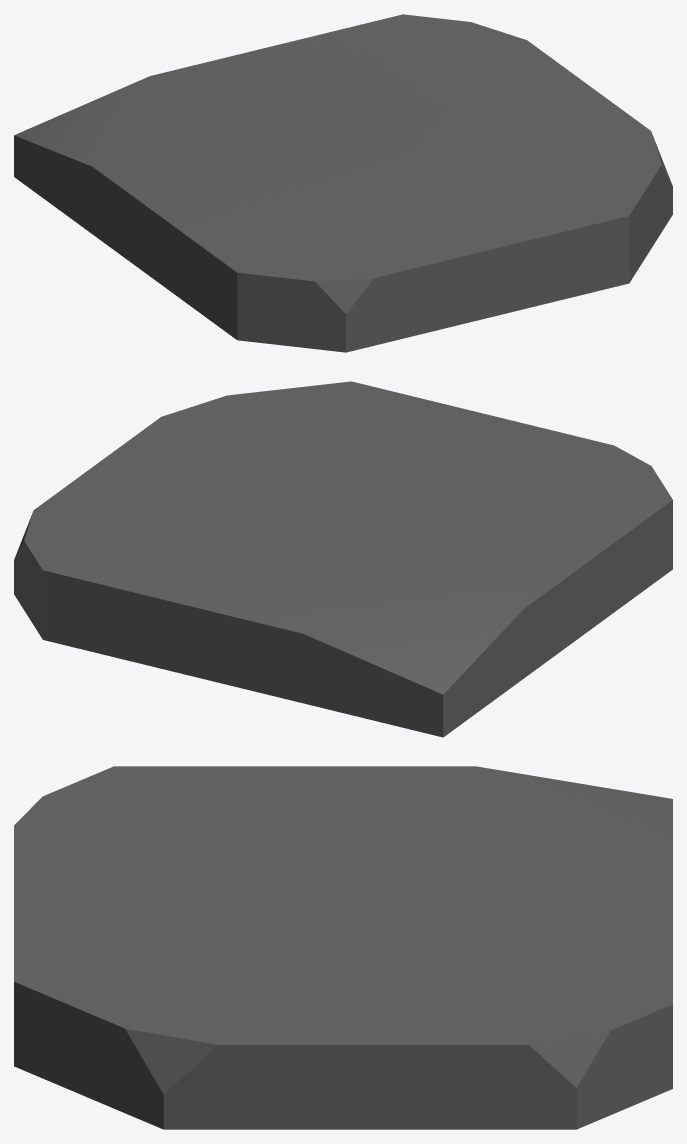
Rendered from Tile_02.fbx.
The picture shows the model from 3 angles, top to bottom: view 1: azimuth 30°, elevation 25°; view 2: azimuth 150°, elevation 25°; view 3: azimuth 270°, elevation 25°; orthographic projection. The views are drawn at different scales.
Visible parts, largest first — view 1: Tile_02_LOD0; view 2: Tile_02_LOD0; view 3: Tile_02_LOD0.
Part boxes in pixels (x1,y1,x2,y2): Tile_02_LOD0: [14, 14, 672, 352]; Tile_02_LOD0: [14, 381, 672, 737]; Tile_02_LOD0: [14, 766, 672, 1129].
Size of what is drawn, in the model's own units: 0.3056 by 0.0434 by 0.3056.
